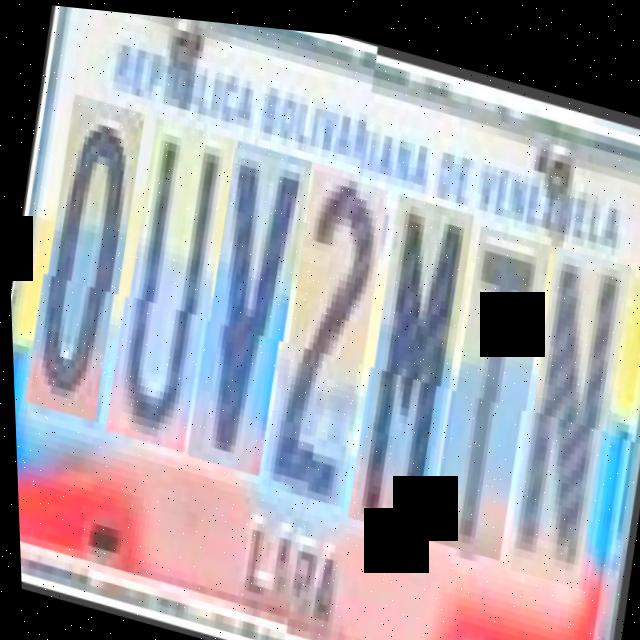2: (255, 158, 396, 505)
M: (339, 180, 482, 535)
N: (497, 230, 640, 584)
O: (16, 95, 151, 433)
T: (421, 209, 558, 555)
U: (95, 116, 241, 464)
V: (177, 138, 318, 484)
